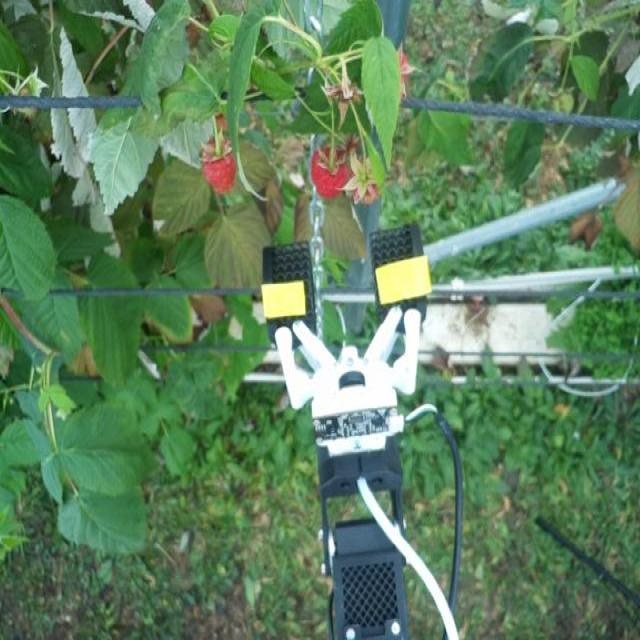Riped berries: (198, 133, 238, 195), (345, 147, 387, 204), (311, 141, 346, 193)
